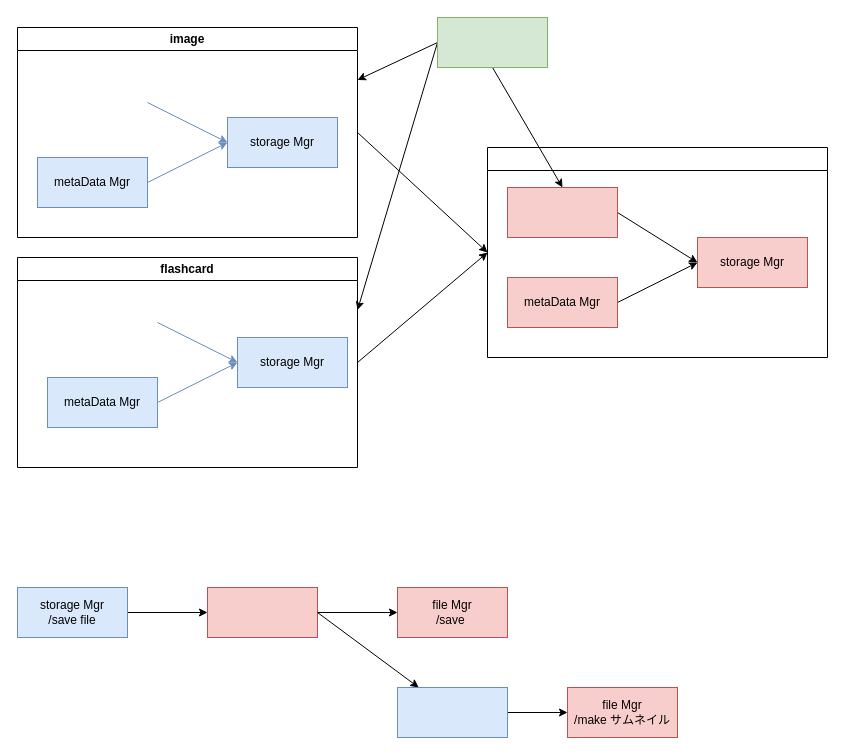
Image size: 845x755. Some labels were removed from this diagram. Each missing label, with the box of its shape:
<<base>>: (486, 146, 828, 358)
file Mgr: (506, 186, 618, 238)
meta data Mgr /get meta data: (396, 686, 508, 738)
storage Mgr /save: (206, 586, 318, 638)
StorageMGR: (436, 16, 548, 68)
